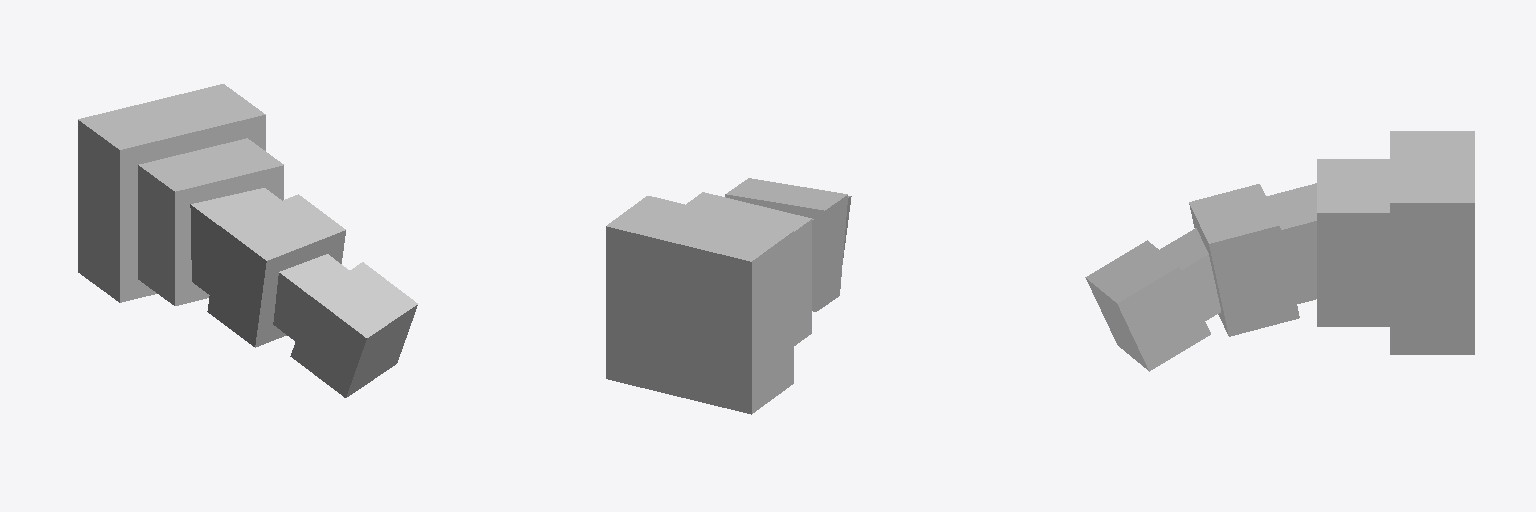
File: pillar.obj
3 renders of one model, left to right at view 1: azimuth 30°, elevation 25°; view 2: azimuth 150°, elevation 25°; view 3: azimuth 270°, elevation 25°, orthographic.
Visible parts, largest first — view 1: cube.003; view 2: cube.003; view 3: cube.003.
Boxes of the visible parts, box(x1,y1,x2,y2) form: cube.003: box(78, 84, 417, 397); cube.003: box(606, 178, 851, 414); cube.003: box(1085, 131, 1474, 371).
Bounding box in the file's own units: 1.11 × 1.11 × 2.31.